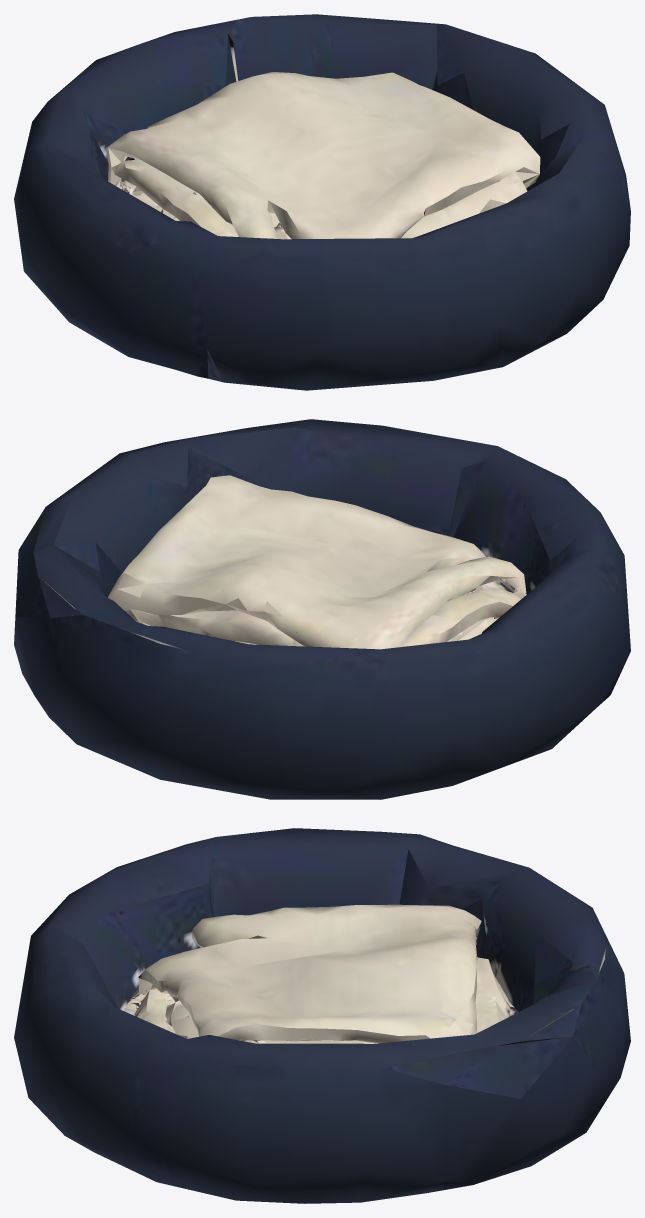
Rendered from camita.glb.
3 views of the same model, one above another, from view 1: azimuth 30°, elevation 25°; view 2: azimuth 150°, elevation 25°; view 3: azimuth 270°, elevation 25° (orthographic).
Visible parts, largest first — view 1: objeto; view 2: objeto; view 3: objeto.
Boxes of the visible parts, x1,y1,x2,y2 form: objeto: [14, 14, 630, 390]; objeto: [14, 419, 630, 799]; objeto: [14, 828, 630, 1203].
Size of the model in its own units: 0.895 by 0.2418 by 0.9049.
Materials: 1 (1 with a texture image).
